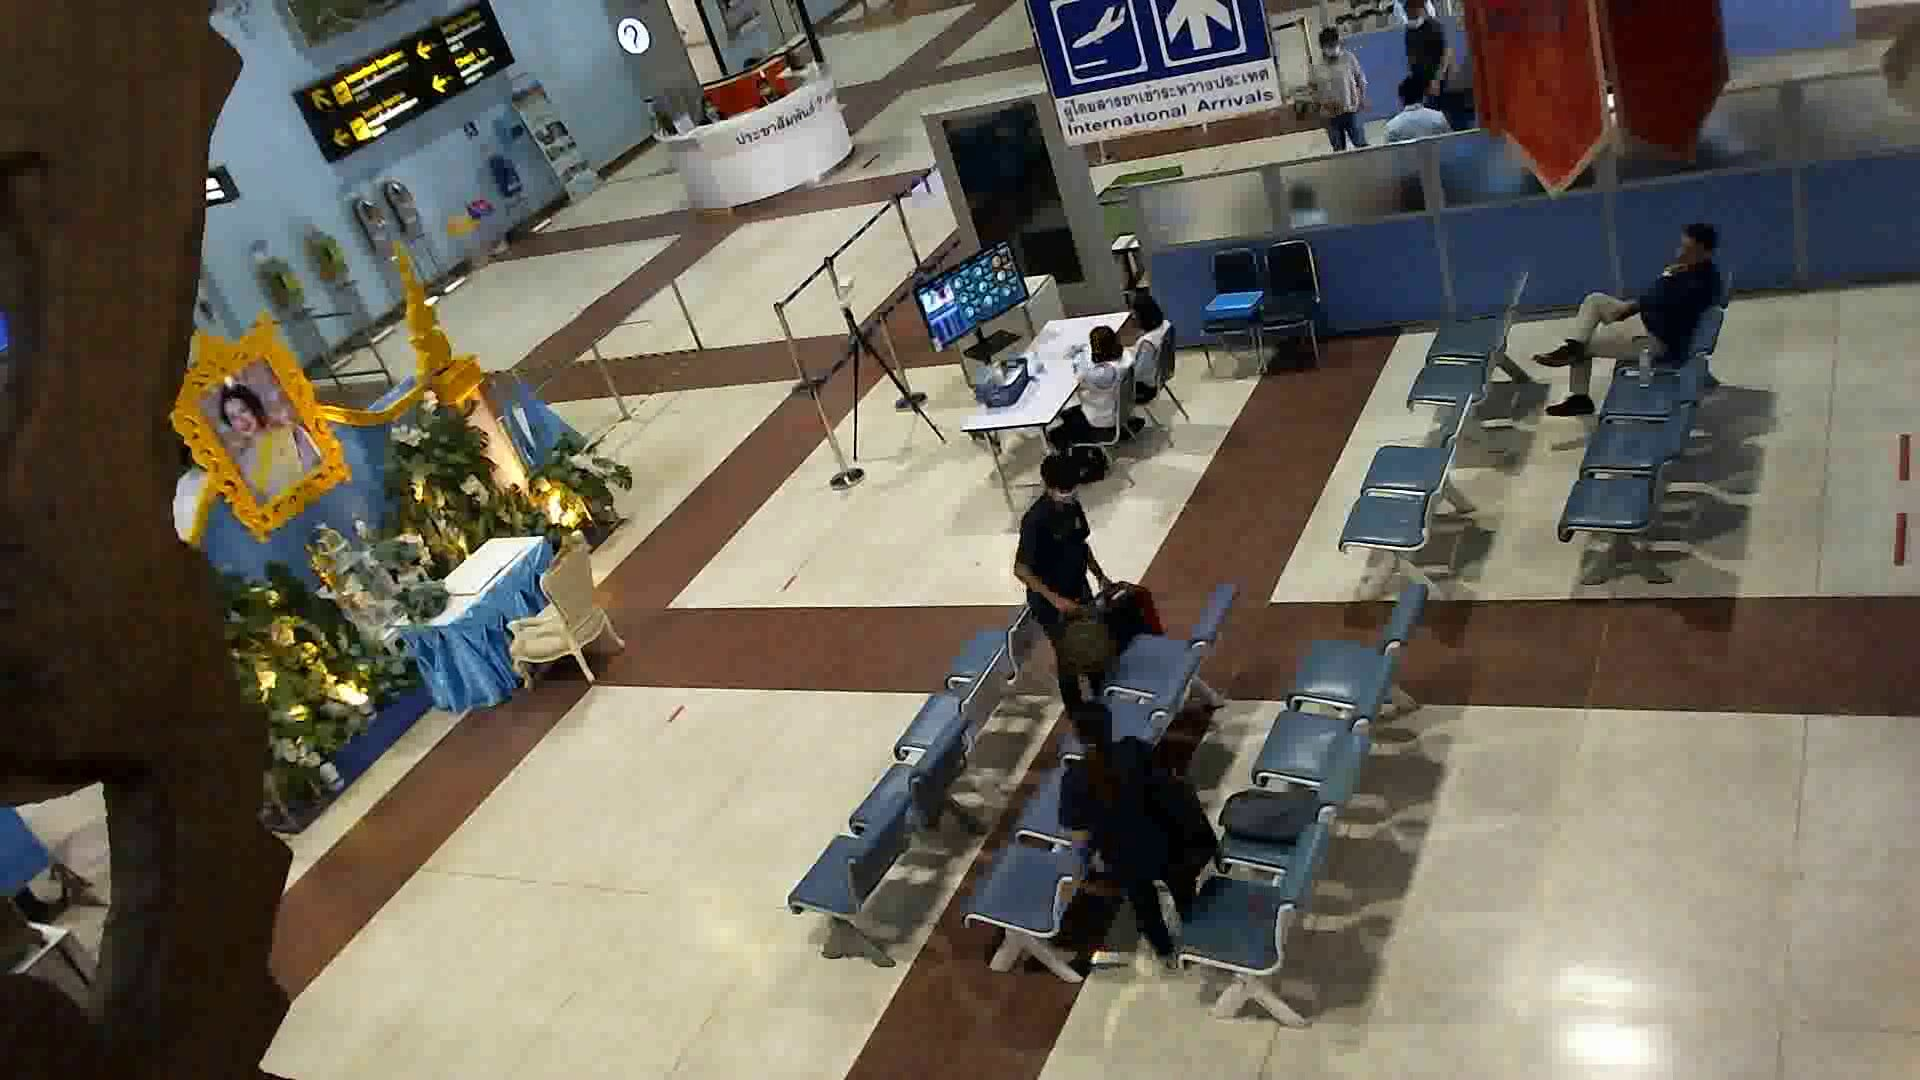backpack: (1216, 776, 1326, 853), (1062, 607, 1108, 682)
luggage: (1089, 576, 1178, 670)
people: (1533, 207, 1729, 424), (1062, 691, 1210, 965), (1012, 443, 1108, 734), (1049, 316, 1124, 482), (1118, 288, 1178, 430)
